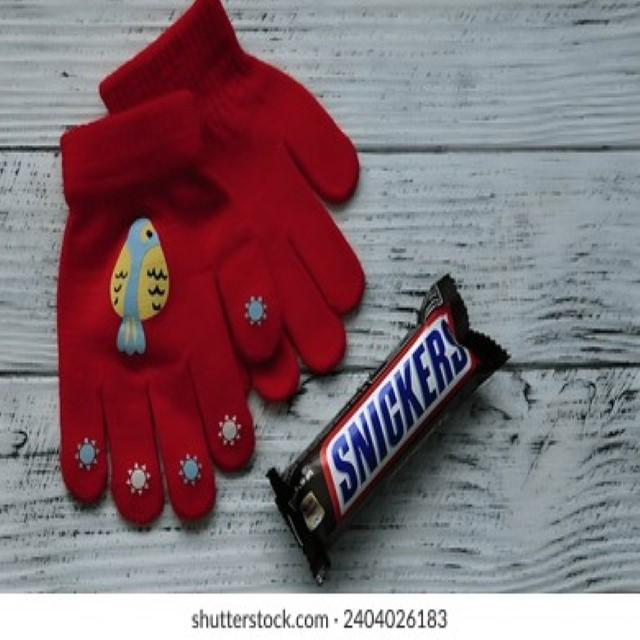snickers_chocolate: (290, 272, 523, 560)
